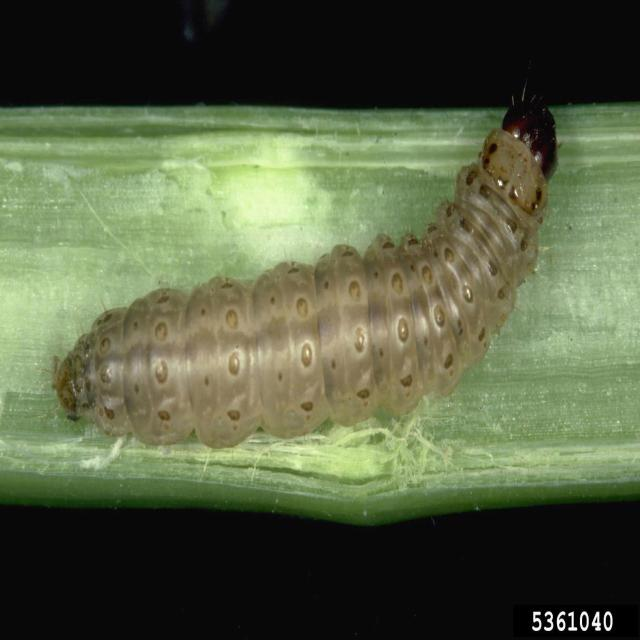Corn-earworm: (61, 97, 564, 497)
